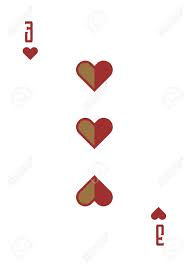ace of hearts: (12, 4, 173, 255)
